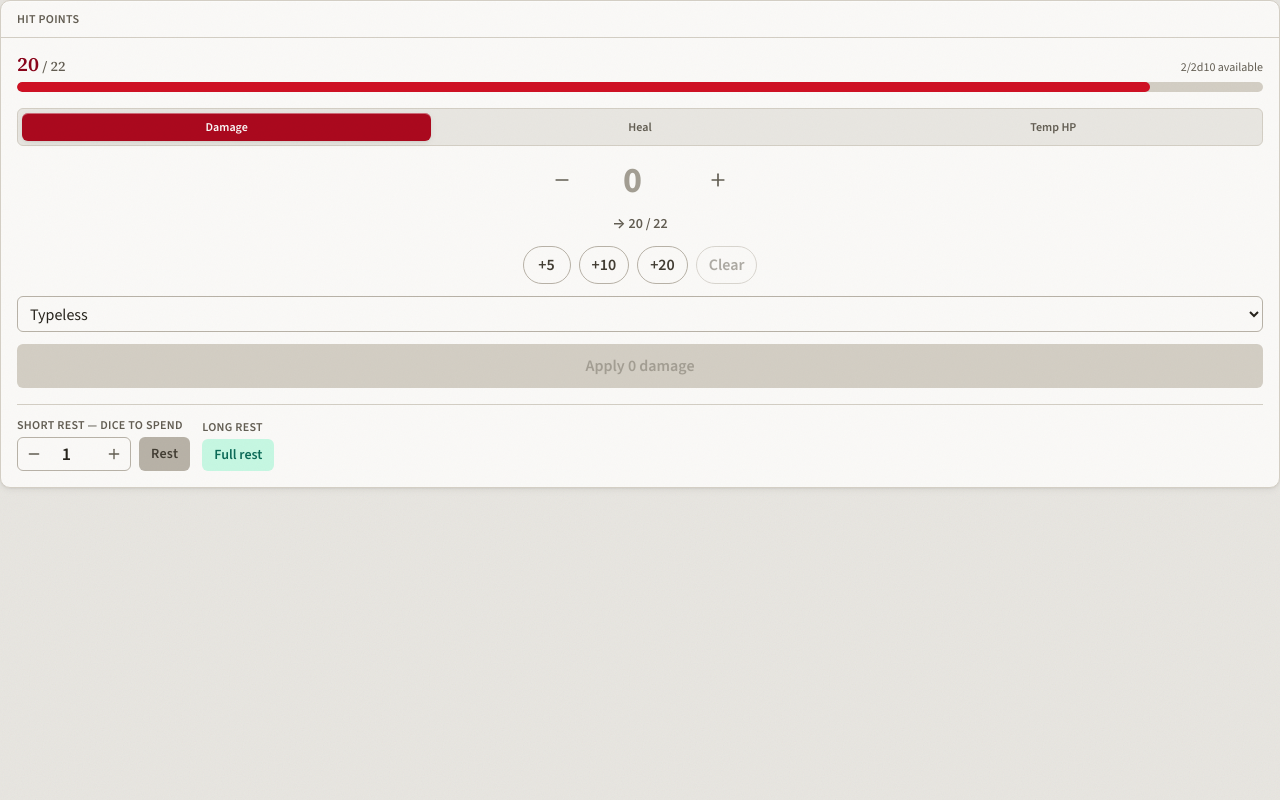
HitPointTracker concentration toast (issue #41) › toasts a lost concentration save
Type "8" into the number field named "damage amount" at (640, 180), box [592,160,688,200]
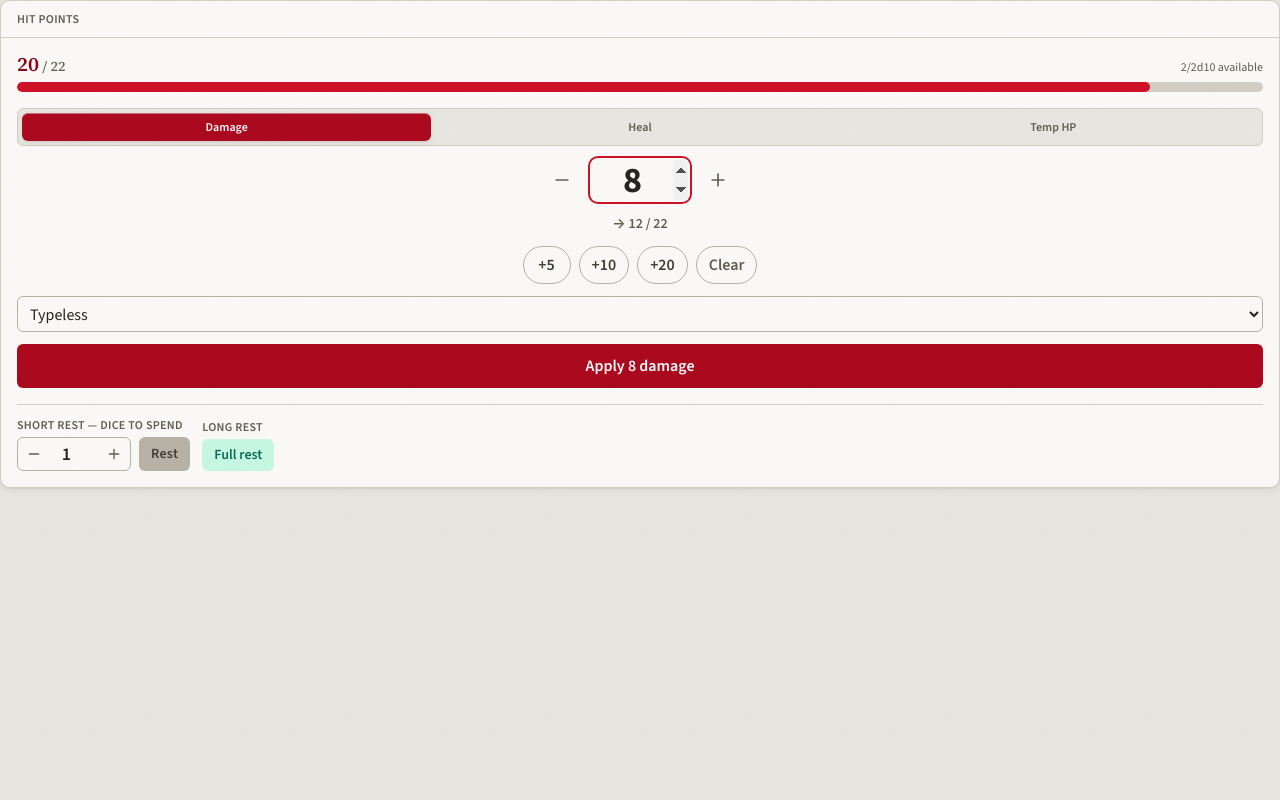
Click the button "Apply 8 damage" at (640, 366), box [17,344,1263,388]
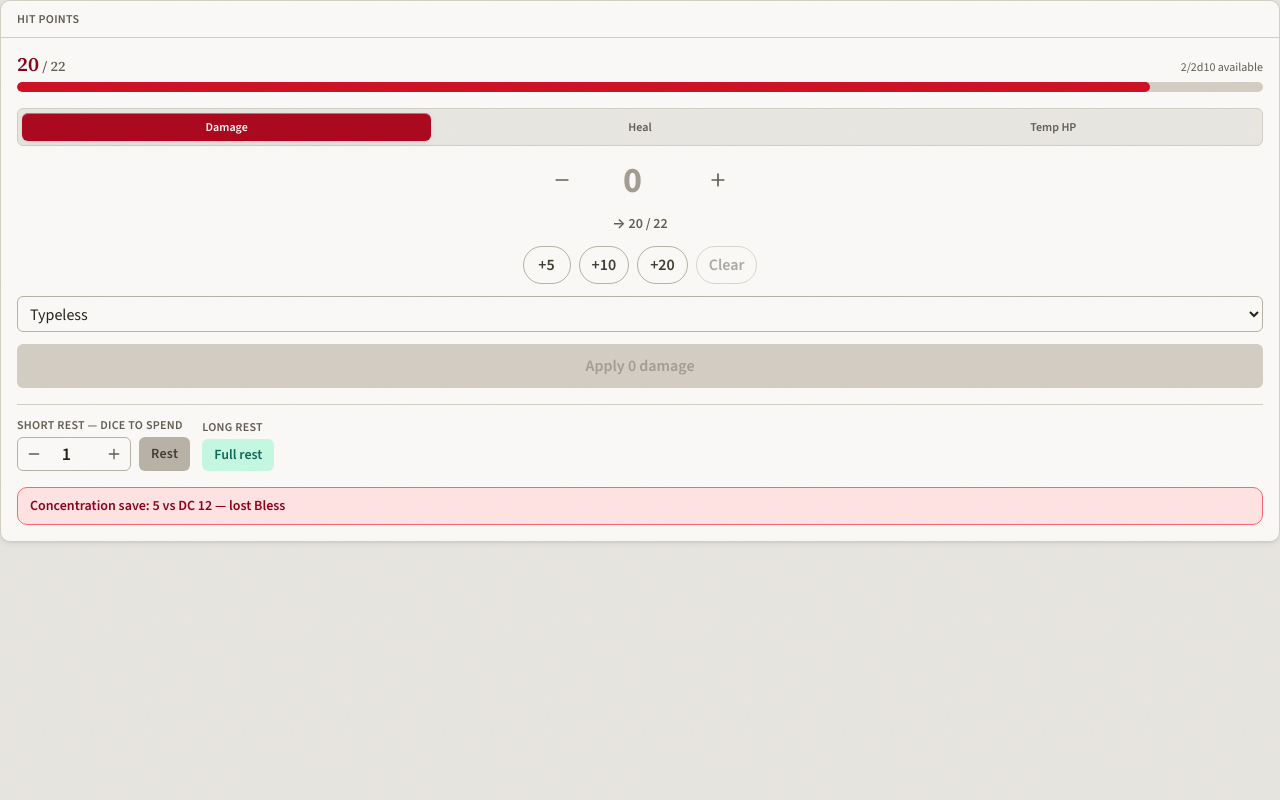
Check: the message shows "5 vs DC 12", box [30,496,285,515]
Check: the message shows "lost", box [30,496,285,515]
Check: the message shows "Bless", box [30,496,285,515]
